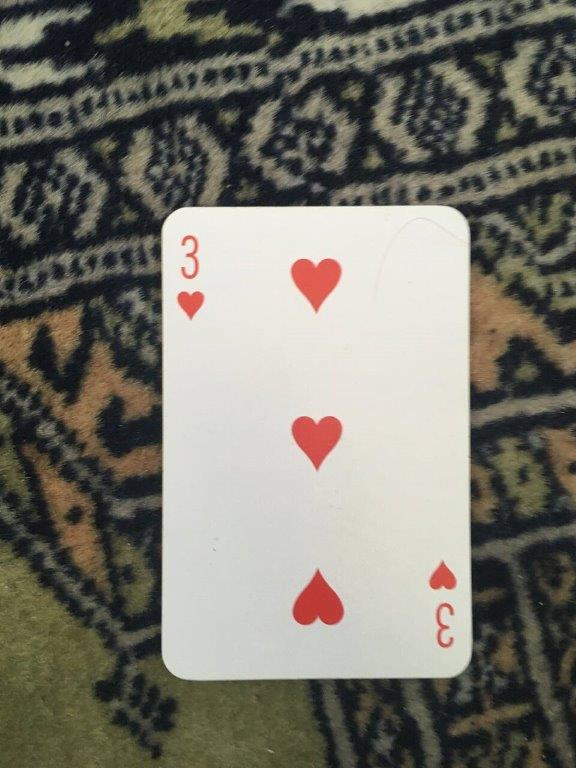3H: (156, 199, 476, 685)
